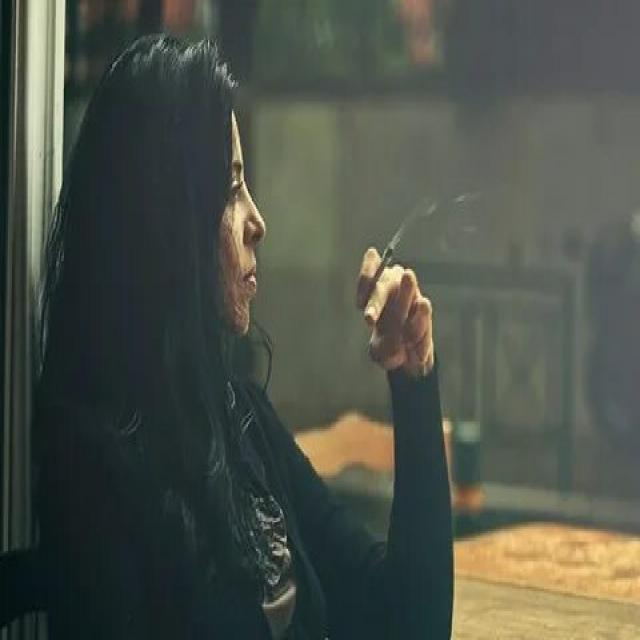smoke: (360, 240, 399, 311)
